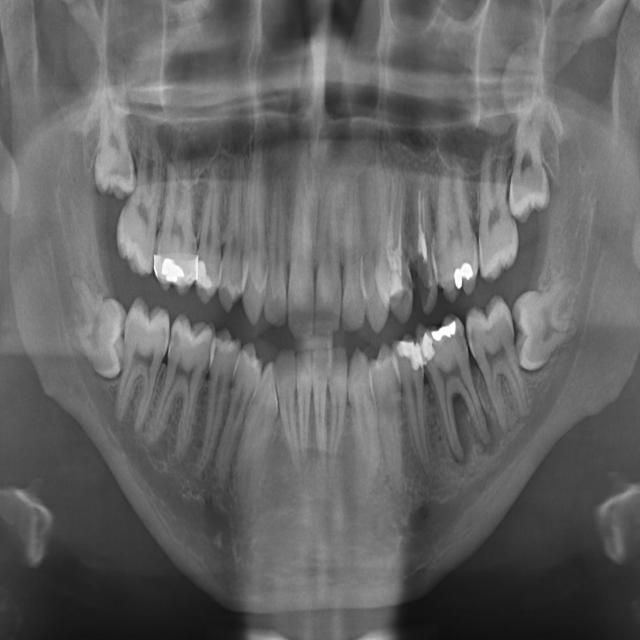AmalgamRestoration: (155, 256, 191, 286), (431, 321, 459, 342), (453, 266, 465, 291), (462, 261, 473, 278)
CompositeResinRestoration: (394, 332, 420, 373), (416, 328, 438, 365), (388, 267, 408, 304), (198, 261, 209, 288)
Crown: (415, 261, 435, 294), (412, 363, 421, 388), (198, 250, 203, 280)
DentalCaries: (170, 327, 182, 359), (159, 322, 170, 355)
ImpactedTooth: (514, 278, 580, 368), (70, 297, 128, 372)
RootCanalTreatment: (382, 182, 409, 266), (414, 183, 430, 256)
